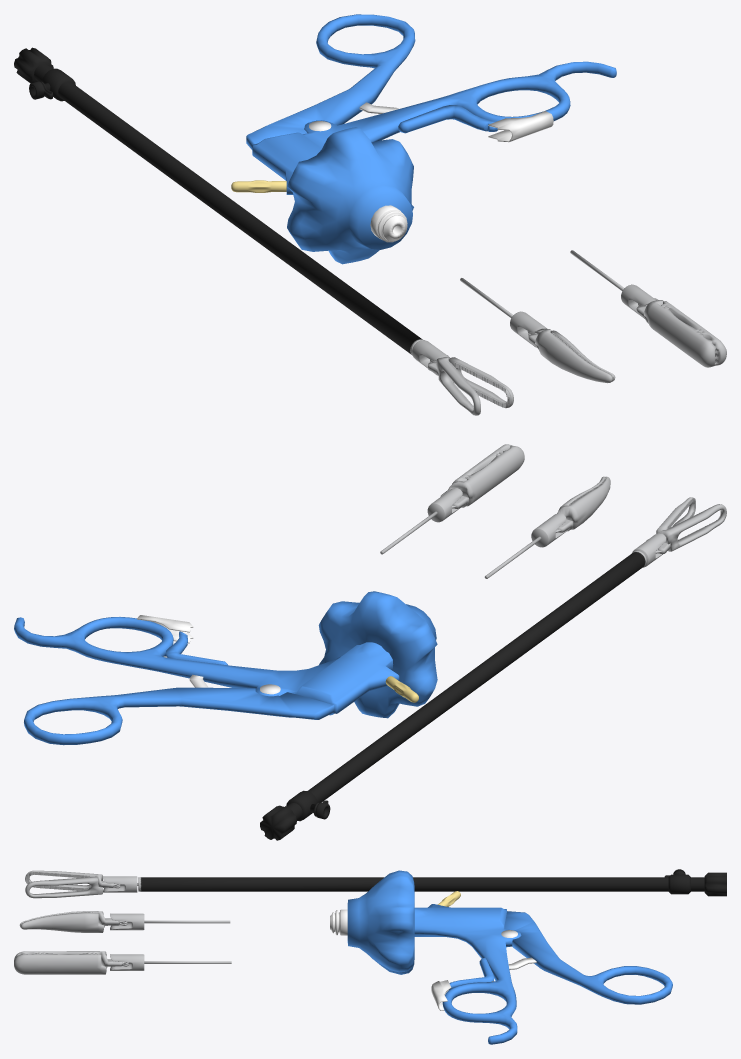
File: FBX_Tools.fbx
3 renders of one model, top to bottom at view 1: azimuth 30°, elevation 25°; view 2: azimuth 150°, elevation 25°; view 3: azimuth 270°, elevation 25°, orthographic. The views are drawn at different scales.
Visible parts, largest first — view 1: Handle, Tube, Thimble1.005, Thimble2.005, Thimble3.005, Thimble1.006, Thimble3.007; view 2: Handle, Tube, Thimble1.005, Thimble3.005, Thimble2.005, Thimble2, Thimble1.001; view 3: Handle, Tube, Thimble1.006, Thimble2.007, Thimble3.007, Thimble2, Thimble3, Thimble1.001, Thimble3.005, Thimble1.005, Thimble3.006, Thimble2.002 (+1 smaller).
Boxes of the visible parts, x1=… form: Handle: x1=231, y1=14, x2=616, y2=264; Tube: x1=14, y1=47, x2=423, y2=355; Thimble1.005: x1=644, y1=298, x2=715, y2=367; Thimble2.005: x1=535, y1=329, x2=612, y2=383; Thimble3.005: x1=436, y1=355, x2=480, y2=415; Thimble1.006: x1=636, y1=301, x2=726, y2=365; Thimble3.007: x1=428, y1=357, x2=513, y2=408; Handle: x1=14, y1=591, x2=437, y2=745; Tube: x1=260, y1=550, x2=647, y2=840; Thimble1.005: x1=440, y1=445, x2=524, y2=506; Thimble3.005: x1=646, y1=504, x2=726, y2=551; Thimble2.005: x1=557, y1=476, x2=610, y2=529; Thimble2: x1=531, y1=513, x2=566, y2=547; Thimble1.001: x1=427, y1=488, x2=462, y2=522; Handle: x1=330, y1=870, x2=672, y2=1044; Tube: x1=138, y1=869, x2=726, y2=896; Thimble1.006: x1=14, y1=953, x2=111, y2=974; Thimble2.007: x1=20, y1=912, x2=119, y2=932; Thimble3.007: x1=25, y1=876, x2=104, y2=898; Thimble2: x1=110, y1=913, x2=144, y2=930; Thimble3: x1=103, y1=876, x2=137, y2=892; Thimble1.001: x1=110, y1=954, x2=144, y2=970; Thimble3.005: x1=25, y1=870, x2=114, y2=890; Thimble1.005: x1=14, y1=951, x2=122, y2=966; Thimble3.006: x1=26, y1=871, x2=89, y2=890; Thimble2.002: x1=127, y1=920, x2=230, y2=923.
Size of the model in its own units: 14.03 by 3.79 by 25.28.
